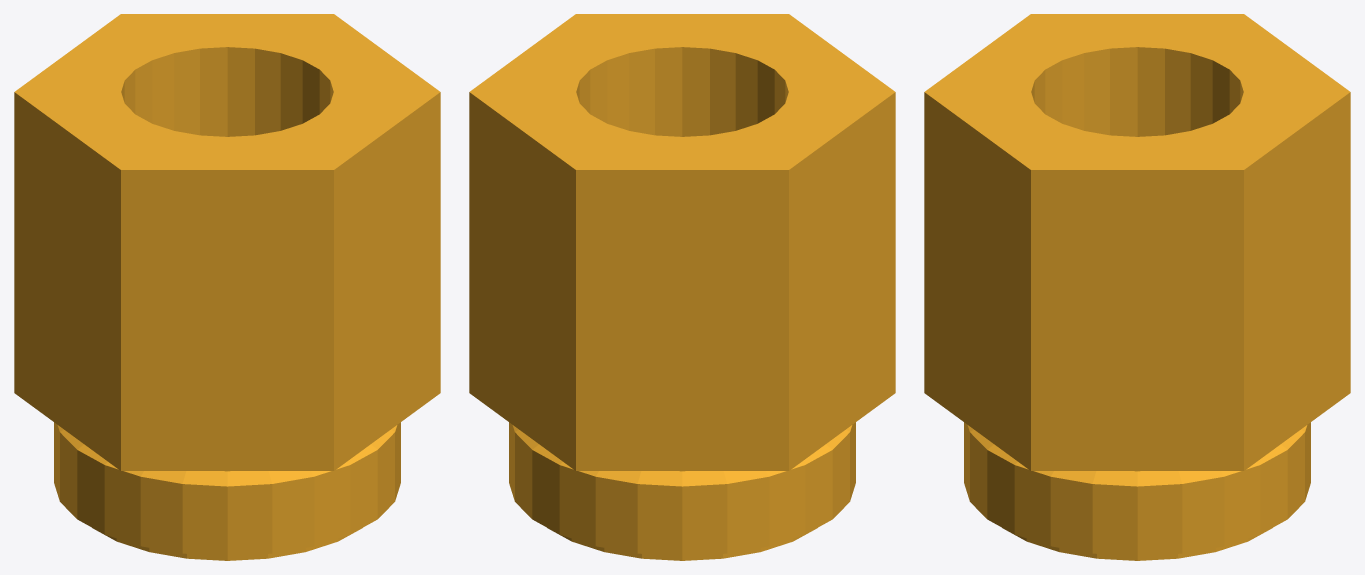
Rendered from kria_kv_260_JSOM_B_XX_XX_XX_1_SOLID1_2_JSOM_B_XX_XX_XX_1_SOLID1_2.obj.
3 renders of one model, left to right at view 1: azimuth 30°, elevation 25°; view 2: azimuth 150°, elevation 25°; view 3: azimuth 270°, elevation 25°, orthographic.
Bounding box in the file's own units: 0.005 × 0.00602 × 0.00577.
